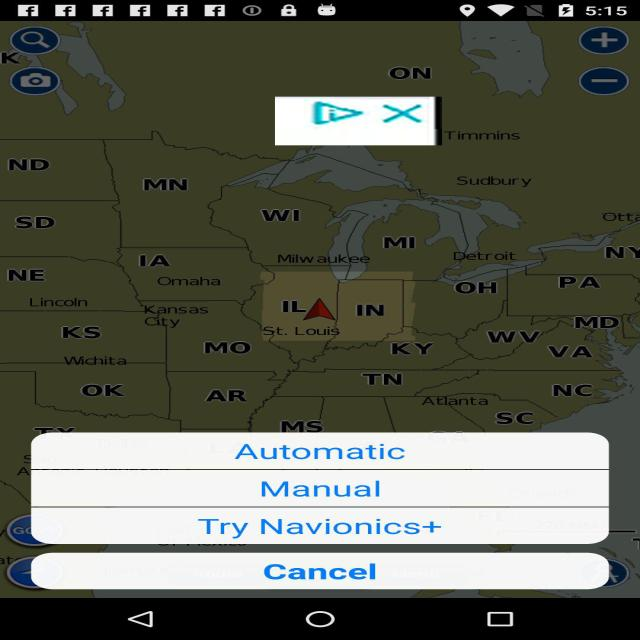sneaking: (275, 97, 442, 145)
